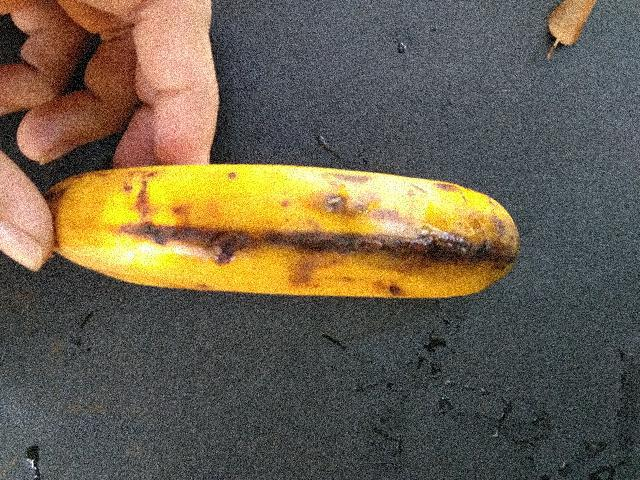overripe: (23, 138, 551, 316)
